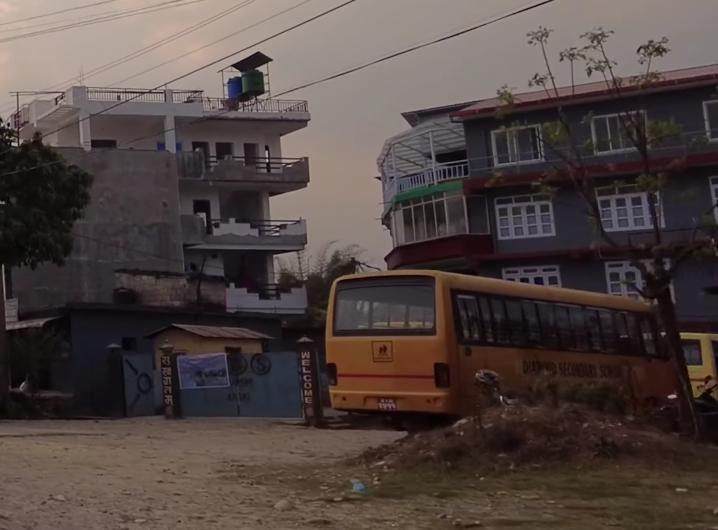school_bus: (325, 266, 688, 452)
